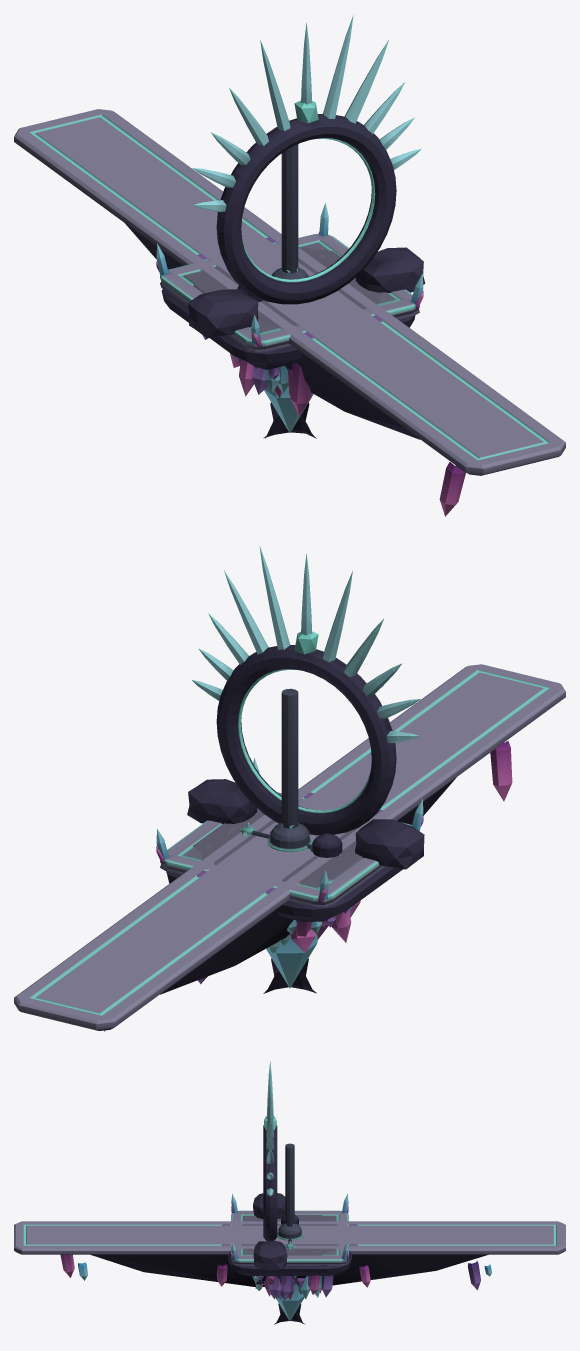
Rendered from caverns-1-D5Q4AOoy.glb.
3 views of the same model, one above another, from view 1: azimuth 30°, elevation 25°; view 2: azimuth 150°, elevation 25°; view 3: azimuth 270°, elevation 25° (orthographic). The views are drawn at different scales.
Parts seen in each view (by area): view 1: block_7x2x56#0, portal_#0, pad_12x2x12#0, press_2.5x6x7.5#0, disc_10x1.5#0, block_7x2x14_ice#0, support_0_round#0; view 2: block_7x2x56#0, portal_#0, pad_12x2x12#0, disc_10x1.5#0, press_2.5x6x7.5#0, barHub_7.2x1.2#0, boltPost_#0, block_10x2x8#0, support_0_round#0; view 3: block_7x2x56#0, portal_#0, pad_12x2x12#0, disc_10x1.5#0, press_2.5x6x7.5#0, block_8x2x10#0, block_10x2x8#0, barHub_7.2x1.2#0.
Boxes of the visible parts, x1,y1,x2,y2 form: block_7x2x56#0: (14, 109, 565, 516); portal_#0: (187, 14, 425, 338); pad_12x2x12#0: (156, 202, 423, 392); press_2.5x6x7.5#0: (281, 144, 298, 273); disc_10x1.5#0: (210, 256, 367, 432); block_7x2x14_ice#0: (197, 237, 382, 416); support_0_round#0: (263, 402, 316, 438); block_7x2x56#0: (14, 664, 565, 1031); portal_#0: (187, 546, 424, 869); pad_12x2x12#0: (156, 757, 423, 936); disc_10x1.5#0: (210, 812, 360, 988); press_2.5x6x7.5#0: (268, 688, 298, 953); barHub_7.2x1.2#0: (251, 822, 312, 851); boltPost_#0: (310, 833, 342, 857); block_10x2x8#0: (193, 808, 363, 927); support_0_round#0: (263, 958, 316, 993); block_7x2x56#0: (14, 1221, 565, 1290); portal_#0: (253, 1061, 287, 1269); pad_12x2x12#0: (228, 1194, 351, 1281); disc_10x1.5#0: (249, 1216, 330, 1321); press_2.5x6x7.5#0: (254, 1143, 321, 1290); block_8x2x10#0: (241, 1219, 338, 1297); block_10x2x8#0: (252, 1215, 327, 1299); barHub_7.2x1.2#0: (277, 1223, 303, 1242).
Size of the model in its own units: 16.02 by 29.02 by 56.
